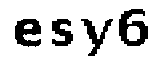6: (117, 5, 152, 52)
e: (13, 16, 43, 49)
s: (49, 15, 76, 49)
y: (77, 16, 117, 60)
